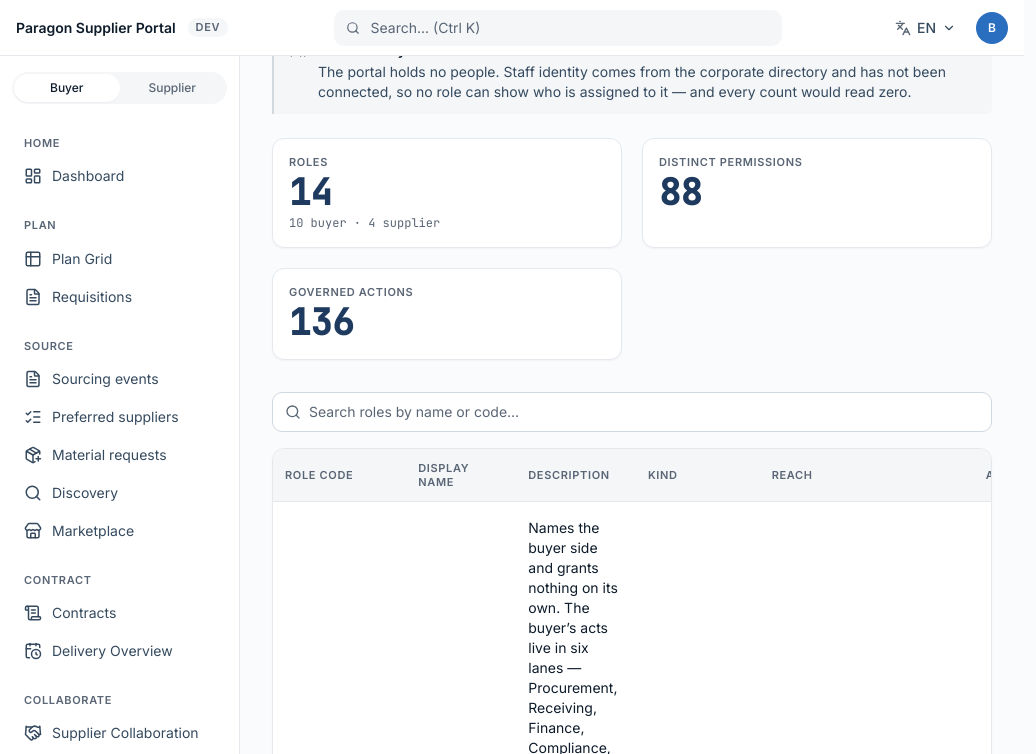
it: ⚠️ THE LIST IS DERIVED — one row per system role, no more, no fewer › search narrows the list and says so when nothing matches
This screenshot has width=1036, height=754.
(page scrolled)
Type "financ" into the field at (644, 412), box top-left (309, 402), bottom-right (979, 422)
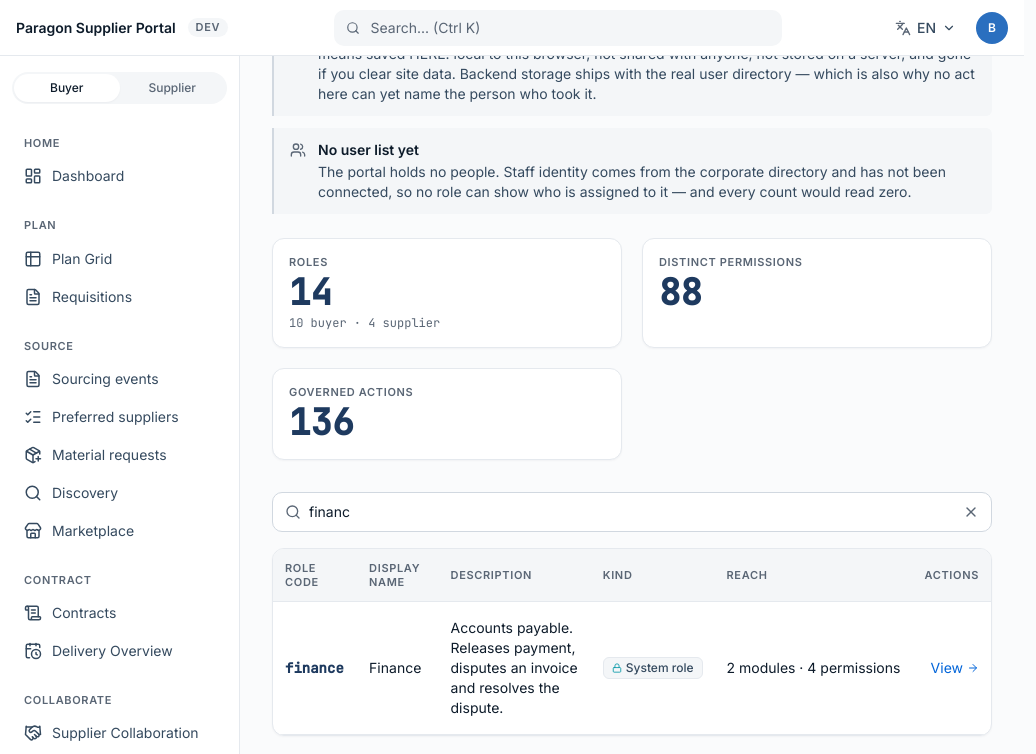
Expected: the row with test id "role-row-finance" is shown, top-left (273, 602), bottom-right (991, 735)
Replace the text in the field with "zzzz" at (632, 512), box top-left (309, 502), bottom-right (955, 522)
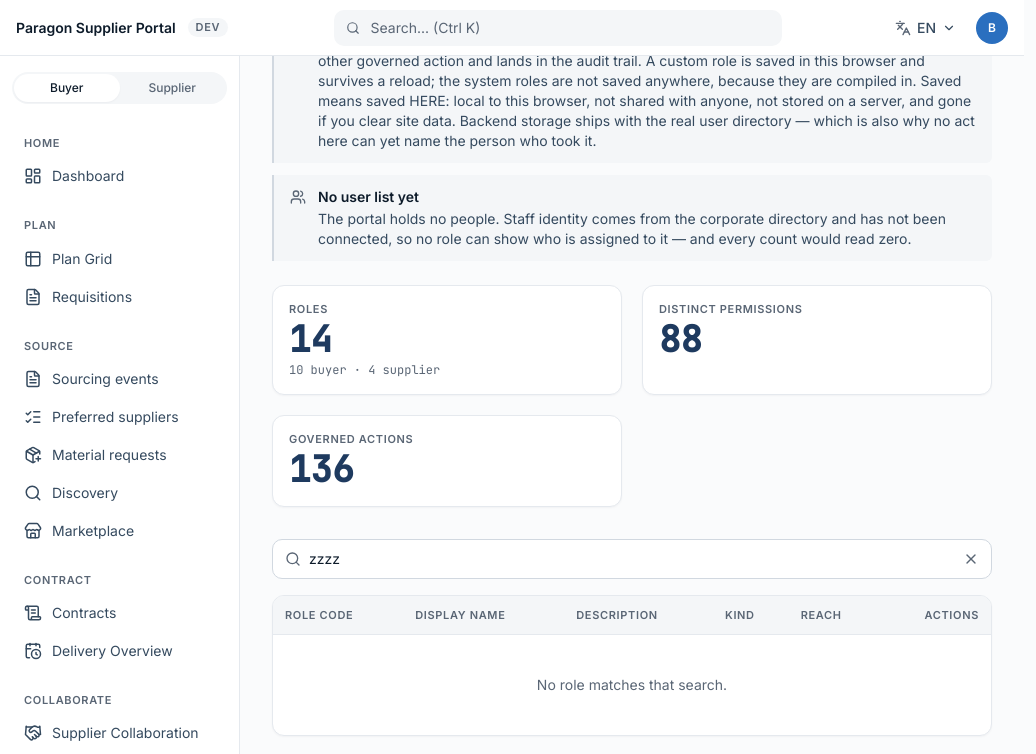
Expected: the text "No role matches that search." is shown, top-left (537, 676), bottom-right (727, 693)
